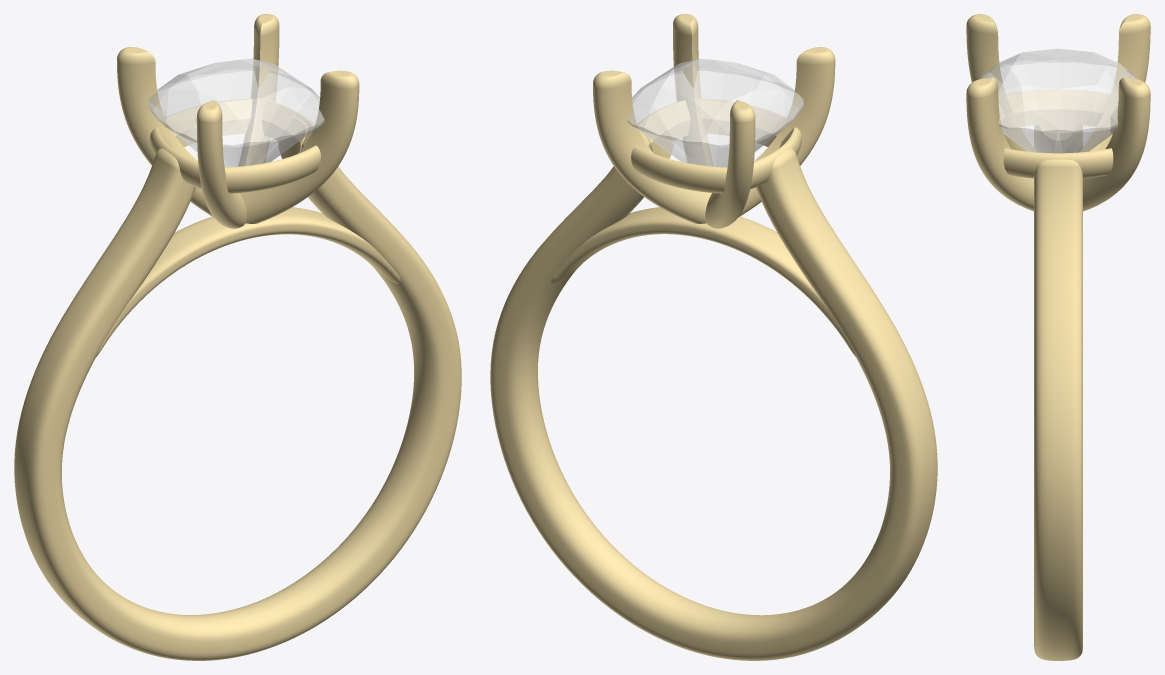
The picture shows the model from 3 angles, left to right: view 1: azimuth 30°, elevation 25°; view 2: azimuth 150°, elevation 25°; view 3: azimuth 270°, elevation 25°; orthographic projection.
Visible parts, largest first — view 1: NNObj_8, NNObj_9, NNObj_0, NNObj_1, NNObj_5, NNObj_3, NNObj_4, NNObj_7, NNObj_2, NNObj_6; view 2: NNObj_8, NNObj_9, NNObj_0, NNObj_1, NNObj_2, NNObj_4, NNObj_3, NNObj_7, NNObj_5, NNObj_6; view 3: NNObj_9, NNObj_0, NNObj_1, NNObj_2, NNObj_5, NNObj_4, NNObj_3, NNObj_8.
Boxes of the visible parts, bbox=[...] form: NNObj_8: bbox=[14, 148, 250, 660]; NNObj_9: bbox=[232, 116, 461, 654]; NNObj_0: bbox=[148, 58, 324, 167]; NNObj_1: bbox=[150, 98, 320, 193]; NNObj_5: bbox=[240, 70, 359, 223]; NNObj_3: bbox=[117, 47, 213, 217]; NNObj_4: bbox=[196, 100, 246, 228]; NNObj_7: bbox=[95, 216, 249, 357]; NNObj_2: bbox=[239, 14, 279, 166]; NNObj_6: bbox=[246, 207, 400, 283]; NNObj_8: bbox=[701, 148, 937, 660]; NNObj_9: bbox=[490, 116, 719, 654]; NNObj_0: bbox=[627, 58, 803, 167]; NNObj_1: bbox=[631, 98, 801, 193]; NNObj_2: bbox=[593, 70, 711, 223]; NNObj_4: bbox=[739, 47, 835, 216]; NNObj_3: bbox=[705, 100, 755, 228]; NNObj_7: bbox=[703, 216, 856, 357]; NNObj_5: bbox=[673, 14, 713, 166]; NNObj_6: bbox=[551, 207, 705, 283]; NNObj_9: bbox=[1034, 159, 1082, 660]; NNObj_0: bbox=[979, 48, 1137, 153]; NNObj_1: bbox=[999, 89, 1117, 178]; NNObj_2: bbox=[1083, 78, 1150, 211]; NNObj_5: bbox=[966, 78, 1033, 211]; NNObj_4: bbox=[966, 14, 1036, 151]; NNObj_3: bbox=[1080, 14, 1150, 151]; NNObj_8: bbox=[1034, 94, 1082, 152].
Size of the model in its own units: 0.0209 by 0.0271 by 0.00769.
